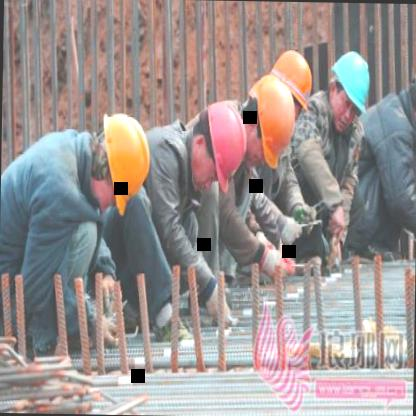helmet: (93, 110, 153, 207), (190, 100, 251, 186), (240, 72, 295, 166), (268, 46, 312, 142), (325, 46, 374, 130)
